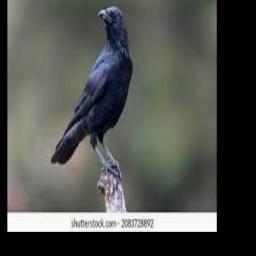Crow: (50, 5, 133, 169)
